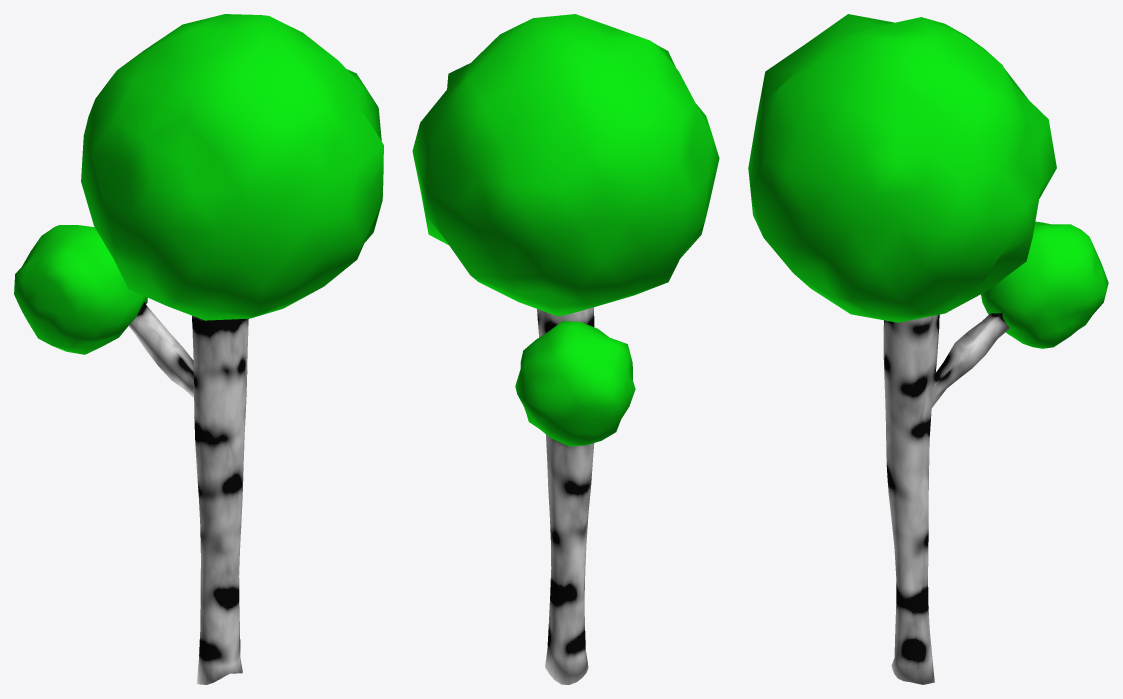
The model's file is BirchBrown.fbx.
The picture shows the model from 3 angles, left to right: view 1: azimuth 30°, elevation 25°; view 2: azimuth 150°, elevation 25°; view 3: azimuth 270°, elevation 25°; orthographic projection. The views are drawn at different scales.
Parts seen in each view (by area): view 1: BirchBrown; view 2: BirchBrown; view 3: BirchBrown.
Part boxes in pixels (x1,y1,x2,y2): BirchBrown: (14, 14, 383, 684); BirchBrown: (412, 14, 719, 684); BirchBrown: (748, 14, 1108, 684).
Size of the model in its own units: 243 by 569 by 281.
